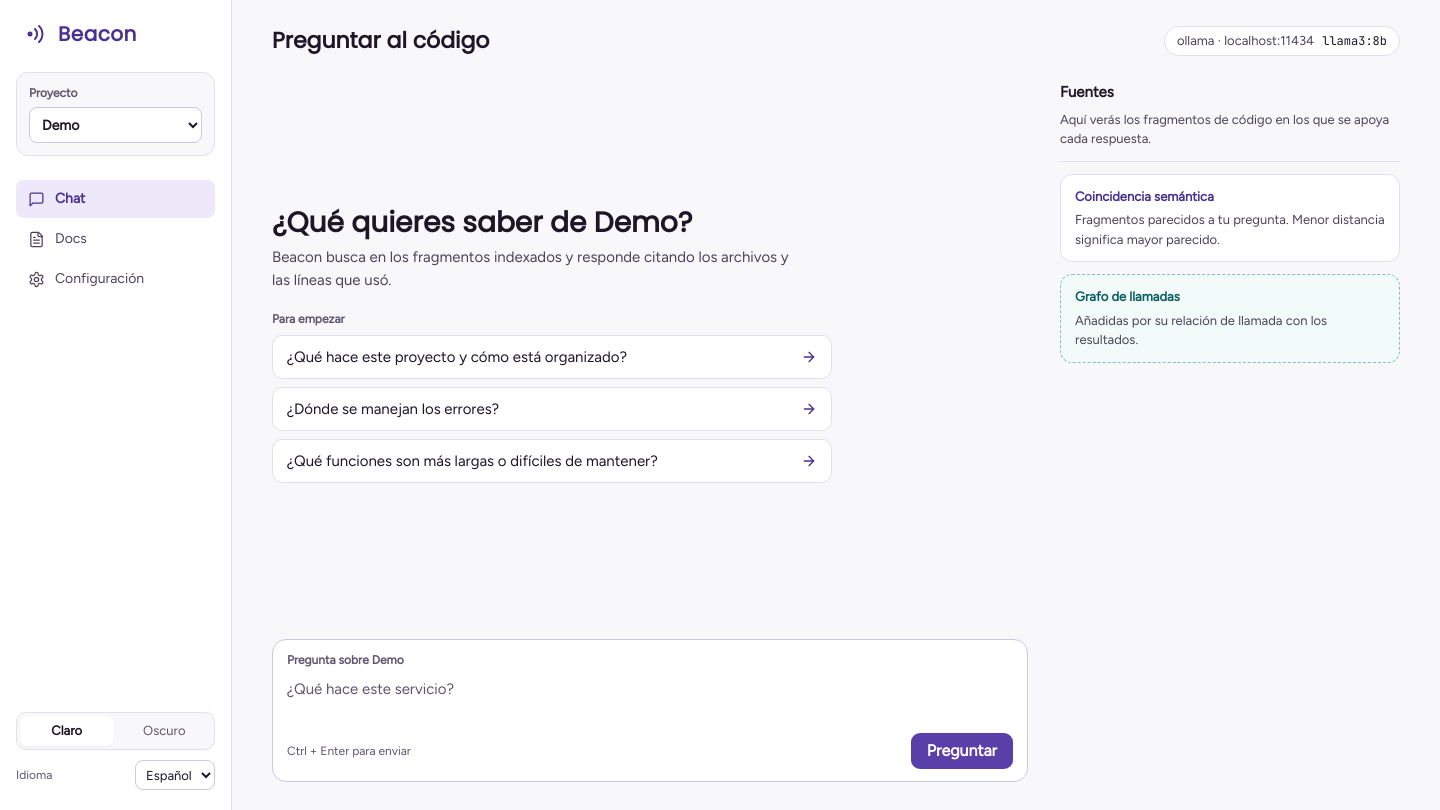
chat › envía la pregunta con el idioma y muestra respuesta y fuentes
The width and height of the screenshot is (1440, 810).
Type "¿Por qué POST pasa a GET?" into the text box at (650, 700), box [287,678,1013,723]
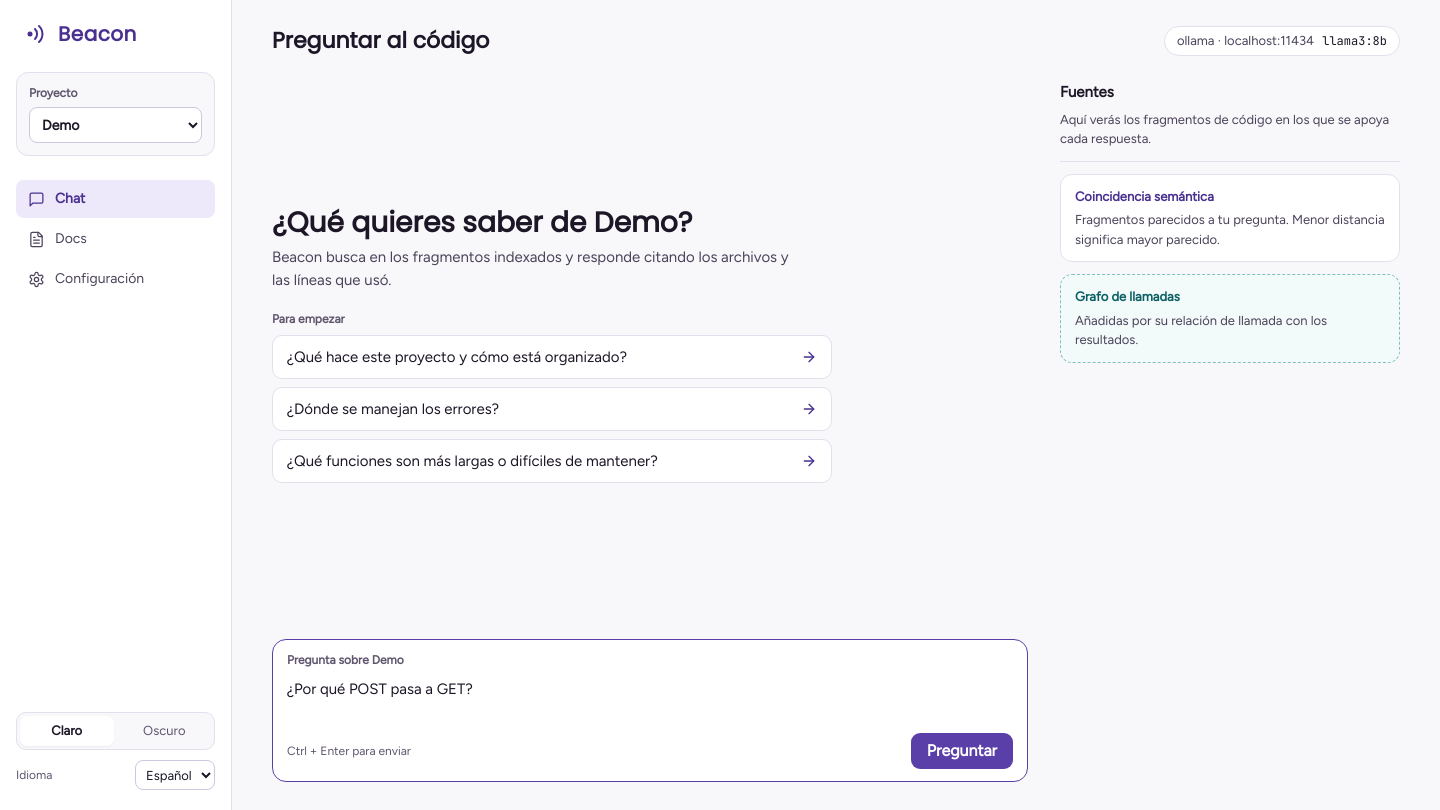
Click the button "Preguntar" at (962, 751), box [911,733,1013,769]
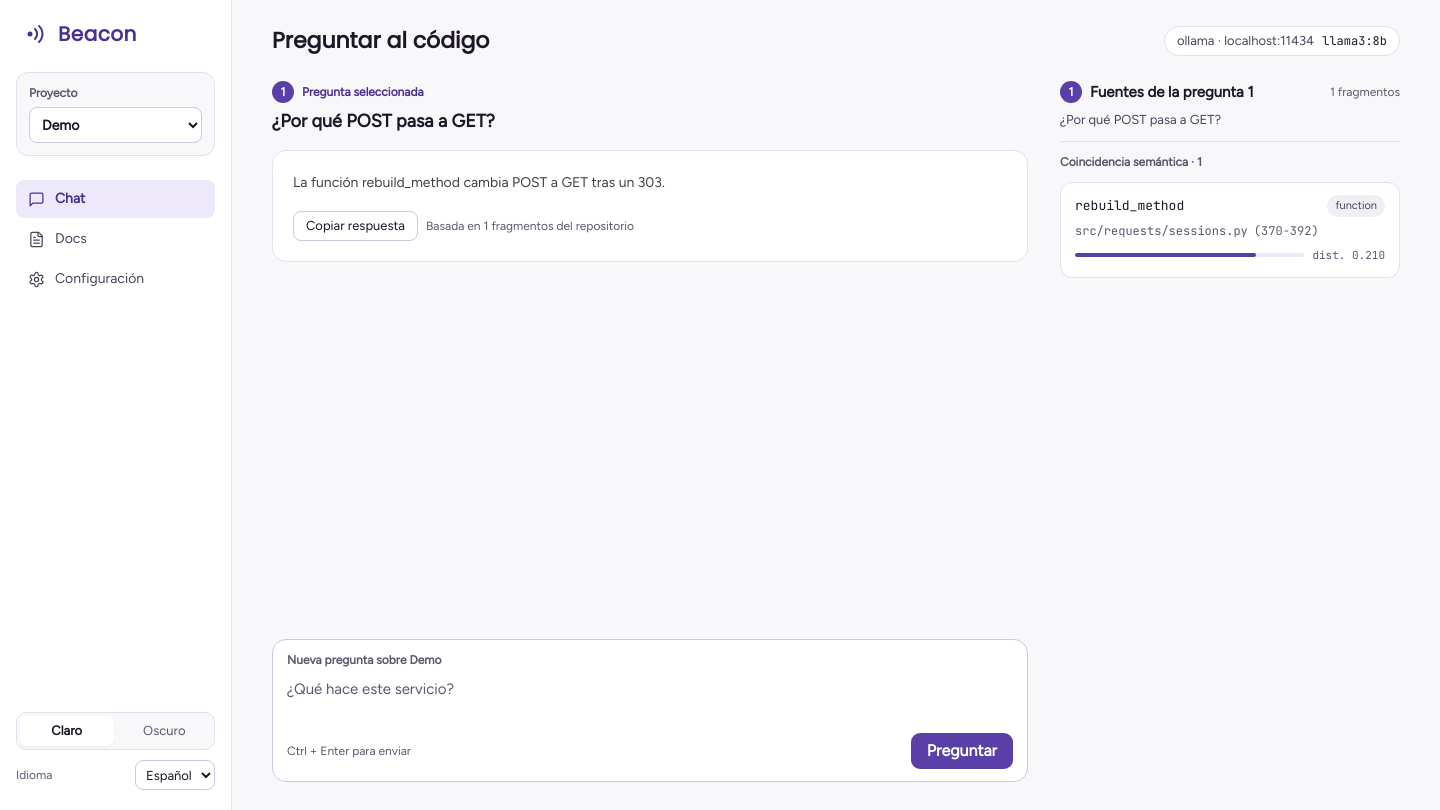
Now the text "La función rebuild_method cambia POST a GET tras un 303." is shown, box [293,174,665,191]
Now the heading "Fuentes de la pregunta 1" is shown, box [1090,81,1254,104]
Now the text "src/requests/sessions.py" is shown, box [1075,223,1248,239]
